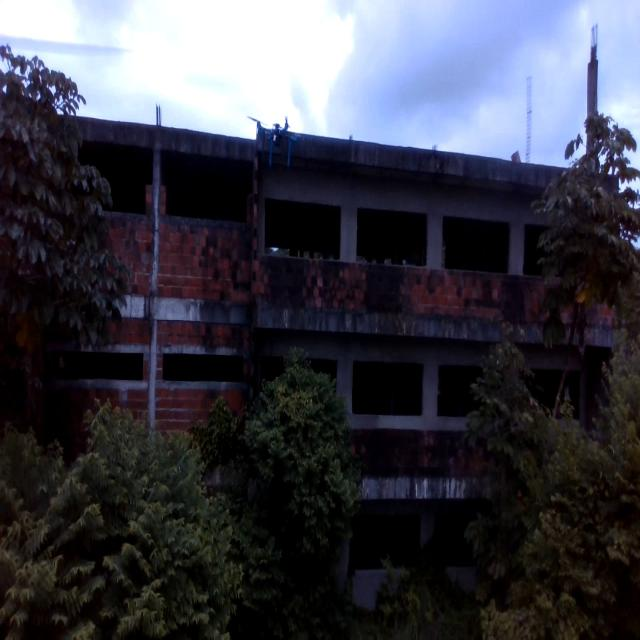-uav-: (240, 105, 304, 178)
